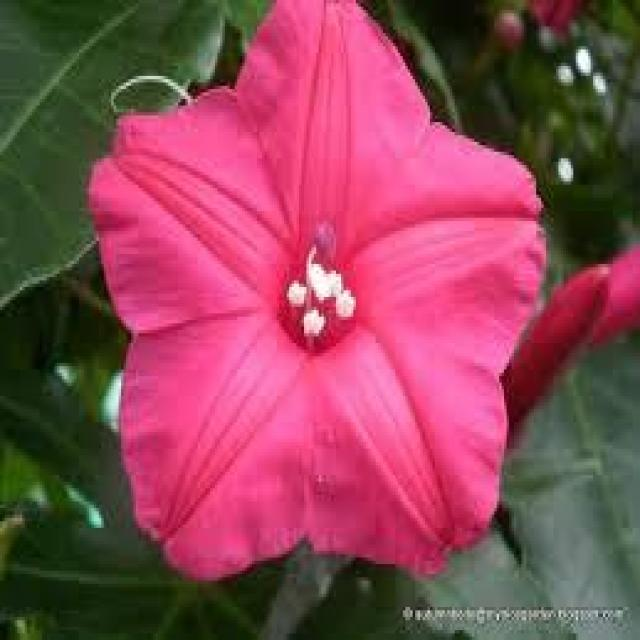organic waste: (70, 5, 545, 576)
